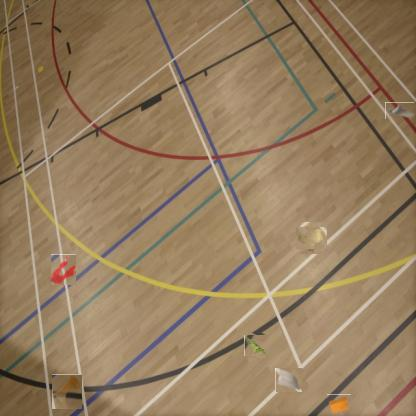dirty: (297, 224, 325, 252), (275, 368, 302, 392), (245, 334, 269, 357), (327, 394, 351, 415), (385, 102, 414, 119)
liquid: (52, 374, 82, 409), (50, 254, 76, 285)
